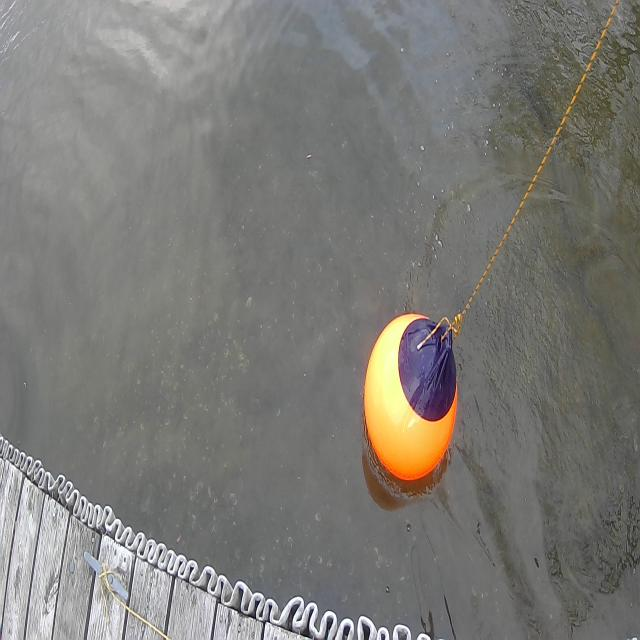Buoy: (361, 304, 465, 502)
